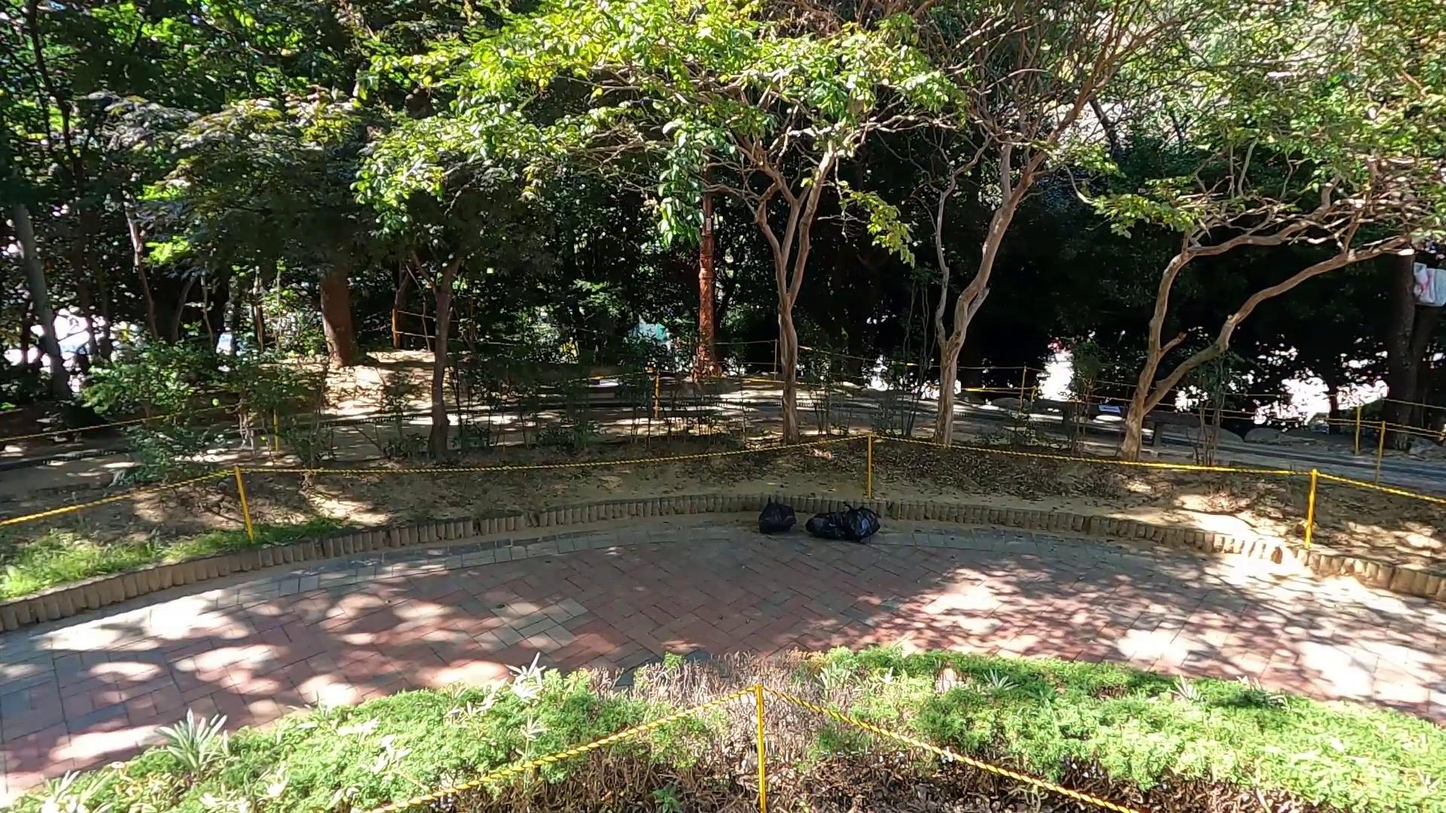trash: (755, 494, 800, 540), (838, 496, 881, 543), (807, 506, 853, 542)
